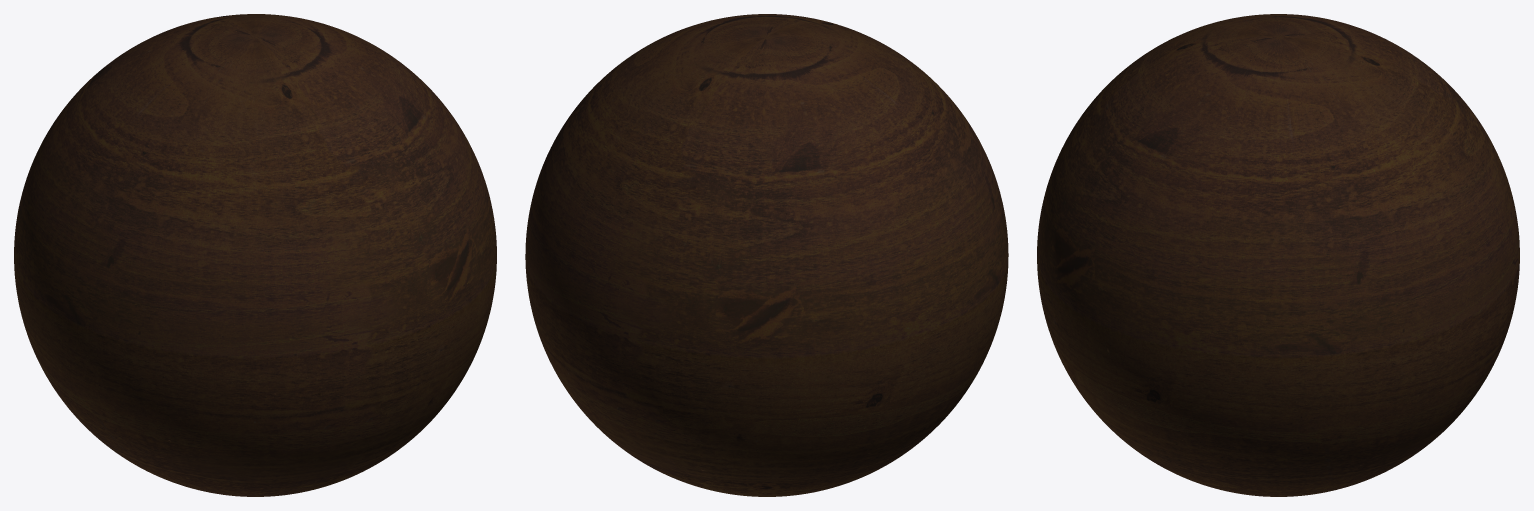
Rendered from lacquered_cherry_wood_4k.gltf.
3 views of the same model, side by side, from view 1: azimuth 30°, elevation 25°; view 2: azimuth 150°, elevation 25°; view 3: azimuth 270°, elevation 25° (orthographic).
Parts seen in each view (by area): view 1: sphere_gltf; view 2: sphere_gltf; view 3: sphere_gltf.
Part boxes in pixels (bbox=[...]): sphere_gltf: bbox=[14, 14, 496, 496]; sphere_gltf: bbox=[525, 14, 1008, 496]; sphere_gltf: bbox=[1037, 14, 1519, 496].
Bounding box in the file's own units: 1 × 1 × 0.9999.
1 material, 1 textured.
